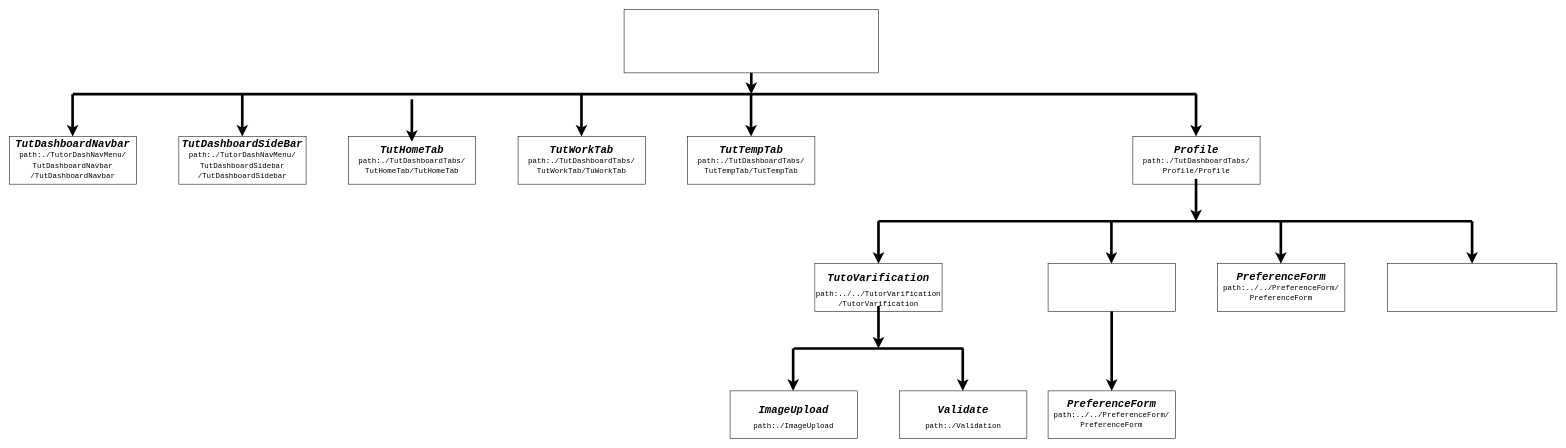
This 1566x448 diagram has some shape labels left out. Each missing label, with the centre of its shape:
"Preference path:./Preference" goes at [1111,287].
"Tutor Dashboard Report" goes at [751,41].
"TutorEducation path:../../TutorEducationalField/ TutorEducation" goes at [1472,287].
